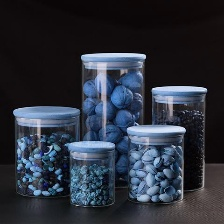bottle: (77, 47, 146, 193), (8, 103, 87, 199), (149, 81, 212, 195), (125, 116, 187, 209), (65, 138, 119, 210)
